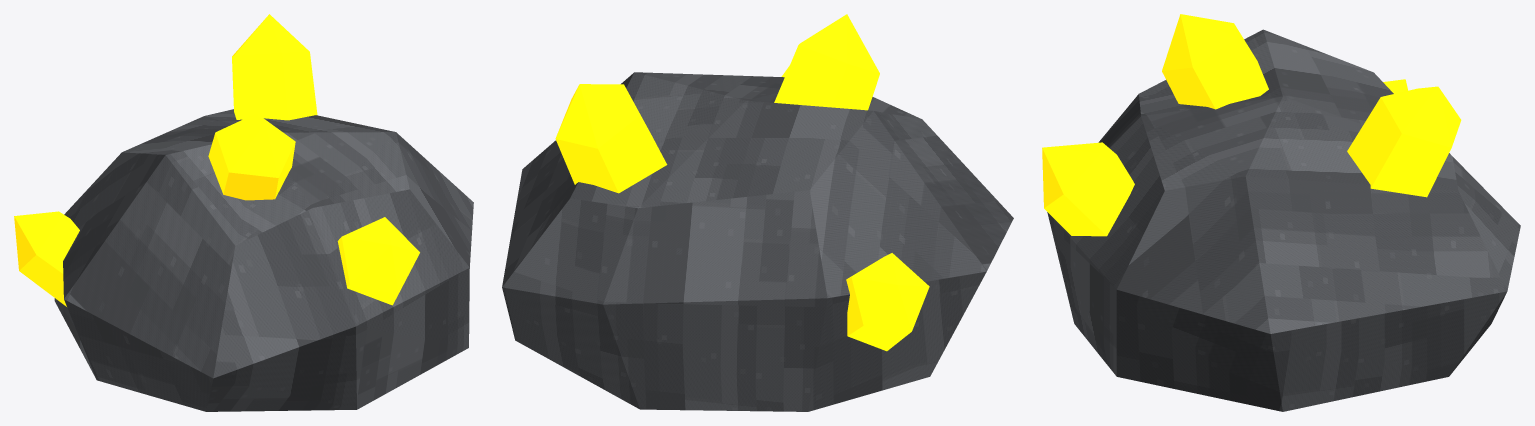
Rendered from RockWithGems.fbx.
3 views of the same model, side by side, from view 1: azimuth 30°, elevation 25°; view 2: azimuth 150°, elevation 25°; view 3: azimuth 270°, elevation 25° (orthographic). The views are drawn at different scales.
Parts seen in each view (by area): view 1: rockWithGems, gemNub, gemNub.003, gemNub.002, gemNub.001; view 2: rockWithGems, gemNub, gemNub.003, gemNub.001; view 3: rockWithGems, gemNub, gemNub.003, gemNub.002.
Part boxes in pixels (left/top/right/bottom): rockWithGems: left=54, top=109, right=473, bottom=411; gemNub: left=232, top=14, right=317, bottom=120; gemNub.003: left=208, top=113, right=295, bottom=200; gemNub.002: left=337, top=217, right=419, bottom=305; gemNub.001: left=14, top=211, right=79, bottom=306; rockWithGems: left=502, top=72, right=1013, bottom=411; gemNub: left=555, top=84, right=667, bottom=193; gemNub.003: left=774, top=14, right=879, bottom=110; gemNub.001: left=846, top=253, right=929, bottom=351; rockWithGems: left=1047, top=29, right=1520, bottom=411; gemNub: left=1347, top=86, right=1461, bottom=197; gemNub.003: left=1162, top=14, right=1268, bottom=109; gemNub.002: left=1042, top=142, right=1134, bottom=236.
Size of the model in its own units: 268 by 182 by 245.
